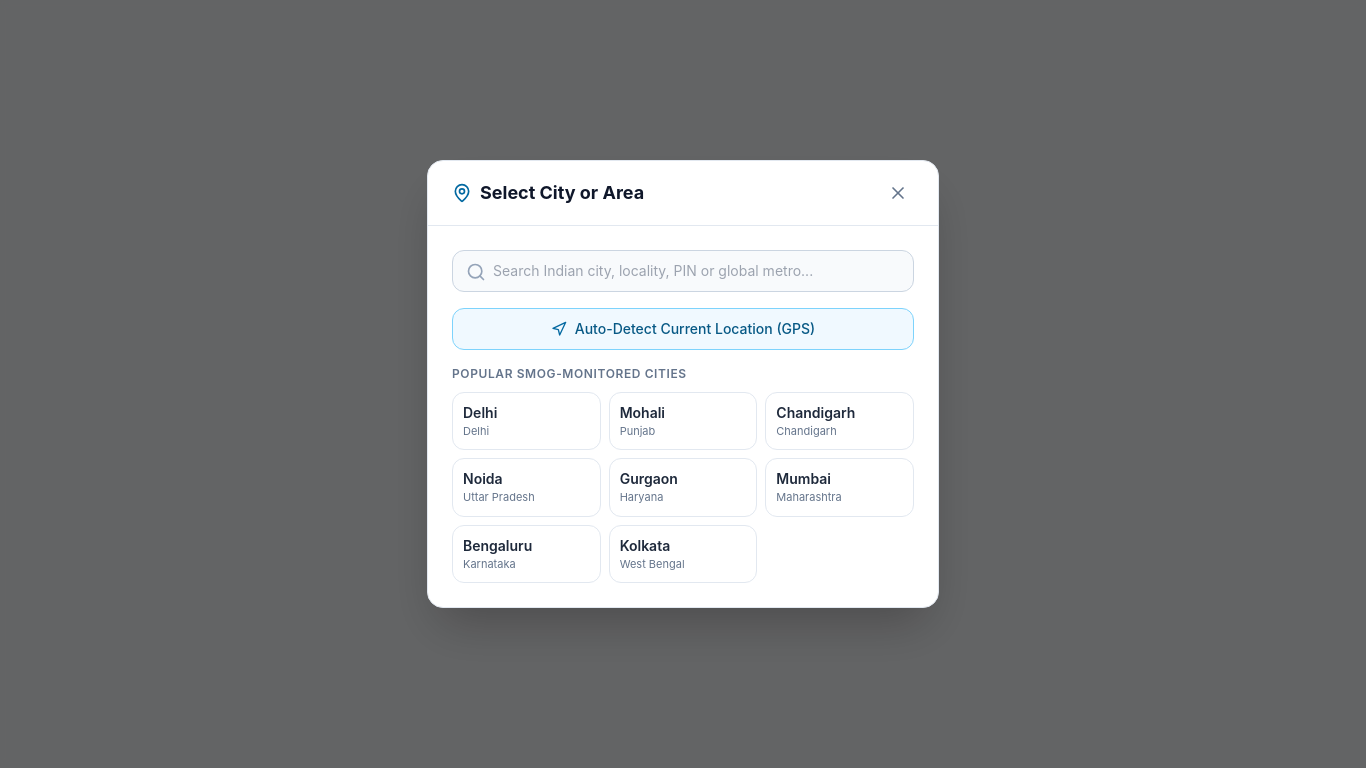
Test: LocationSearchModal › searches, selects a result, supports Escape and detect success
Later steps or results of the test are not shown.
In the field named "Search city or area name": (683, 271) 452,250 -> 914,292, type "Mum"
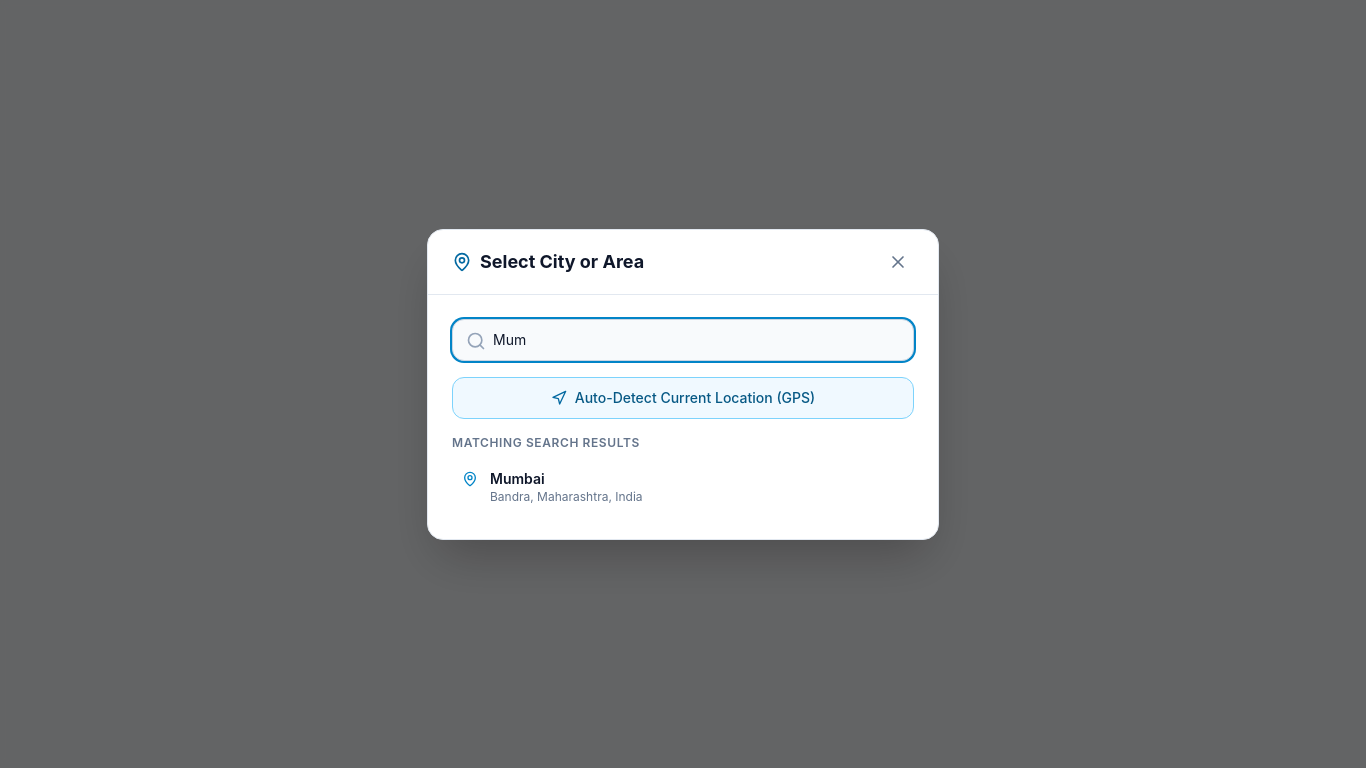
Now the button "Mumbai Bandra, Maharashtra, India" is shown, box 452,458 -> 914,514
